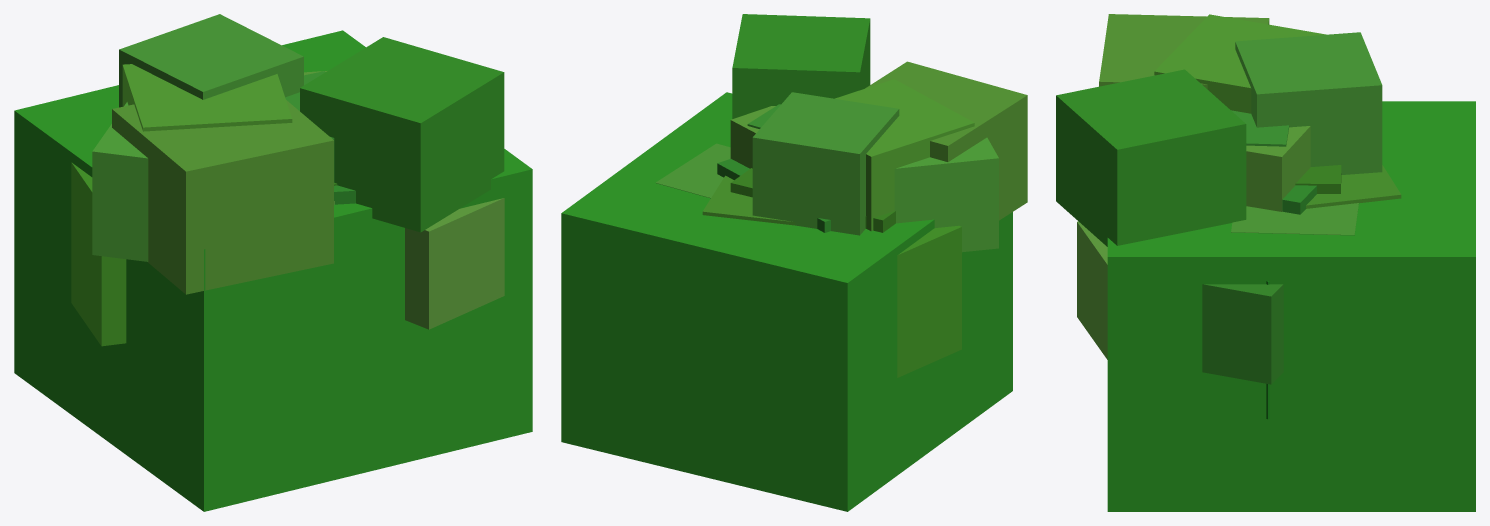
File: bush.glb
The picture shows the model from 3 angles, left to right: view 1: azimuth 30°, elevation 25°; view 2: azimuth 150°, elevation 25°; view 3: azimuth 270°, elevation 25°; orthographic projection. The views are drawn at different scales.
Parts seen in each view (by area): view 1: bush_leaf, bush_foliage; view 2: bush_leaf, bush_foliage; view 3: bush_leaf, bush_foliage.
Boxes of the visible parts, left/top/right/bottom form: bush_leaf: left=14, top=30, right=532, bottom=511; bush_foliage: left=71, top=14, right=504, bottom=346; bush_leaf: left=561, top=92, right=1012, bottom=511; bush_foliage: left=655, top=14, right=1027, bottom=377; bush_leaf: left=1107, top=101, right=1475, bottom=511; bush_foliage: left=1056, top=14, right=1401, bottom=419.
Bounding box in the file's own units: 1.35 × 1.16 × 1.25.
